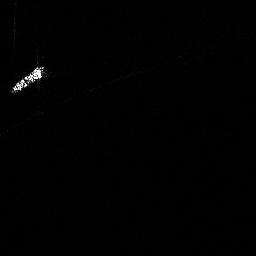ship: (6, 62, 48, 96)
